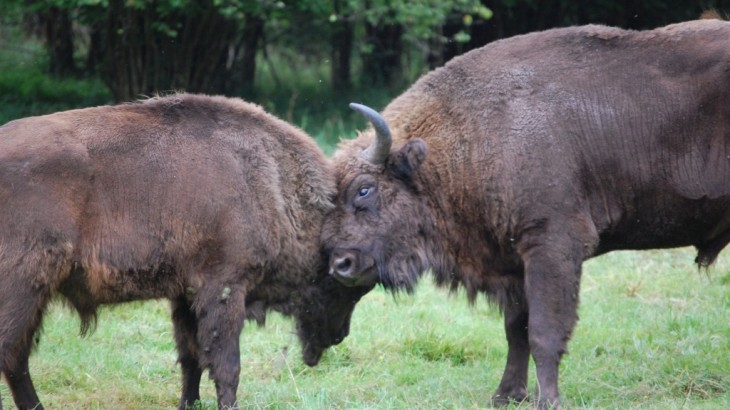zubr: (318, 4, 730, 386), (1, 75, 432, 404)
